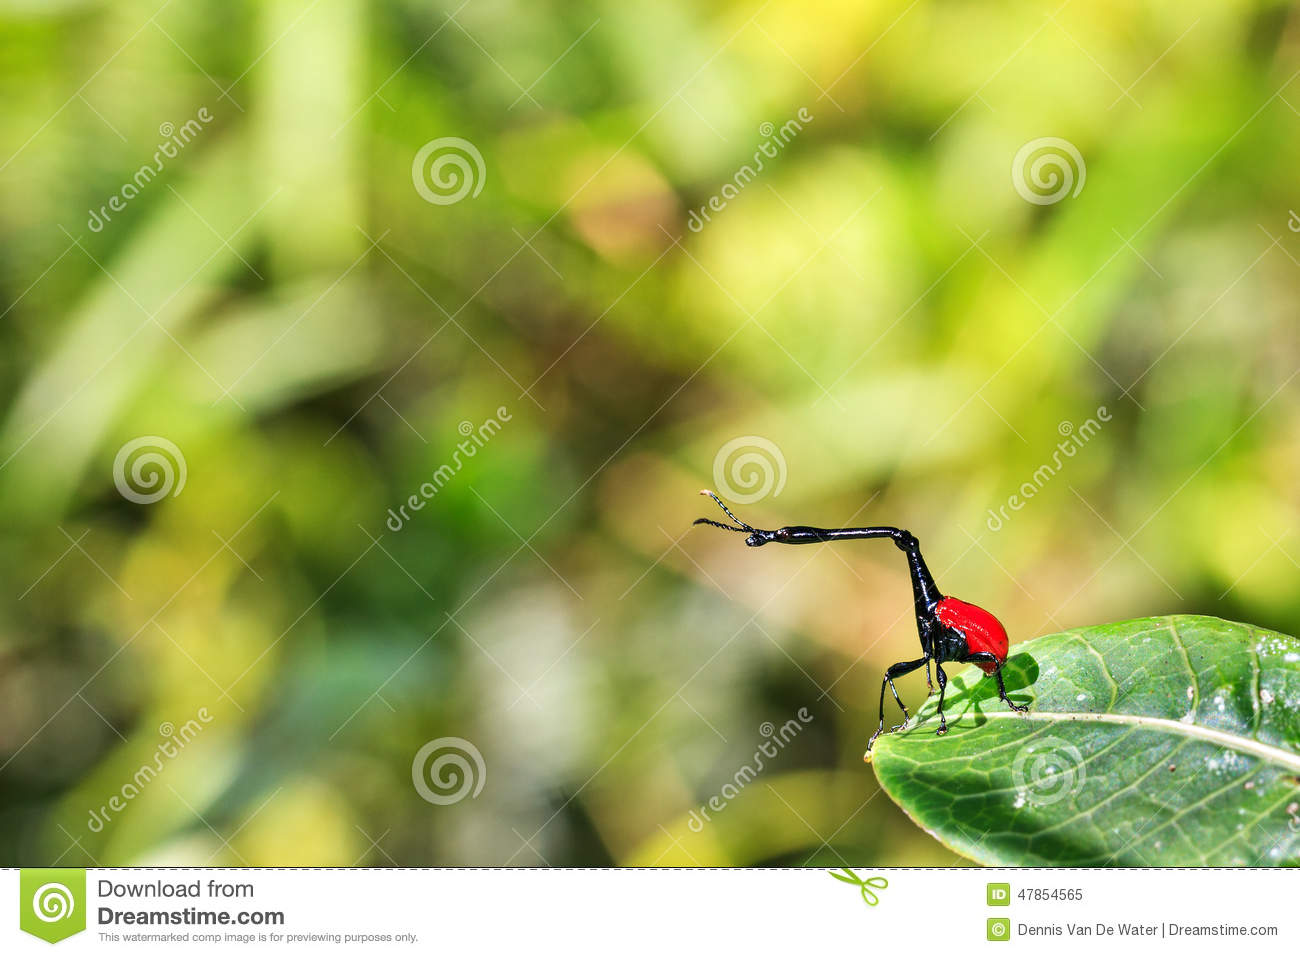dolgonosik: (695, 487, 1034, 741)
